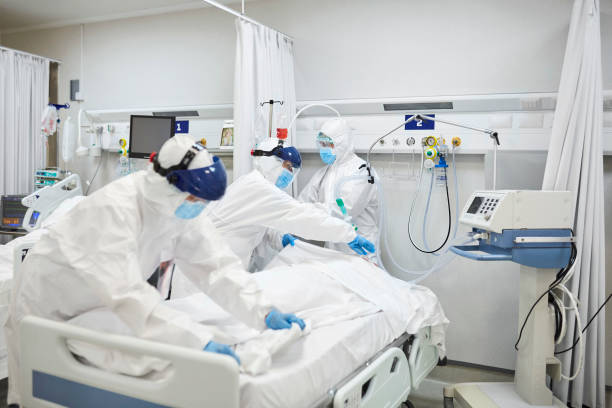bedrail: (330, 347, 410, 408), (19, 173, 83, 229), (413, 310, 449, 390)
bedside_monitor: (127, 113, 183, 161)
breathing_tube: (337, 196, 450, 278), (360, 212, 472, 289)
curtain: (542, 1, 601, 408), (233, 19, 298, 198), (1, 58, 52, 199)
foot_board: (1, 318, 242, 408)
hospital_bed: (1, 255, 454, 408)
iv_pole: (256, 91, 293, 221), (42, 96, 72, 224)
staff: (1, 136, 230, 393), (186, 144, 375, 304), (291, 112, 384, 286)
